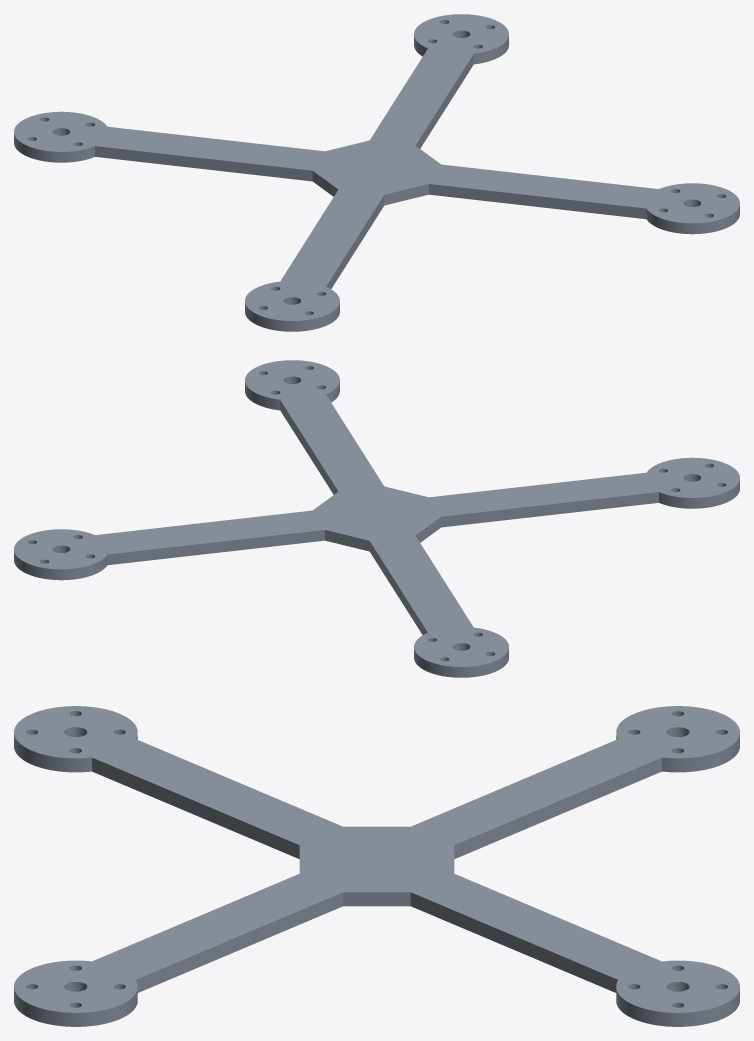
Rendered from step-2.glb.
3 views of the same model, one above another, from view 1: azimuth 30°, elevation 25°; view 2: azimuth 150°, elevation 25°; view 3: azimuth 270°, elevation 25° (orthographic). The views are drawn at different scales.
Visible parts, largest first — view 1: face_e8ffeb9f76131370be5a, face_65c66fe1e0937397a9d0, face_c3da73c9c2f5c6b37184, face_99aa3a414971a8e10236, face_3936b62e6fa0d3e30a5a, face_dd56d3a8a9a30ec413dd, face_de8c72e43f954061460f, face_6d05d407728fafc427f5, face_8e73c7c34ffd2414a018; view 2: face_e8ffeb9f76131370be5a, face_3533421d171926b4baed, face_e3d30ccce09407a87e97, face_dd56d3a8a9a30ec413dd, face_8e73c7c34ffd2414a018, face_99aa3a414971a8e10236, face_111ebc612d3cc0528e19, face_08830a98a8640858c9c0, face_3936b62e6fa0d3e30a5a; view 3: face_e8ffeb9f76131370be5a, face_08830a98a8640858c9c0, face_6d05d407728fafc427f5, face_de8c72e43f954061460f, face_111ebc612d3cc0528e19, face_8e73c7c34ffd2414a018, face_3936b62e6fa0d3e30a5a, face_dd56d3a8a9a30ec413dd, face_99aa3a414971a8e10236, face_0c192ddcb180af72bbb7.
Boxes of the visible parts, left/top/right/bottom form: face_e8ffeb9f76131370be5a: left=14, top=14, right=739, bottom=320; face_65c66fe1e0937397a9d0: left=429, top=184, right=646, bottom=219; face_c3da73c9c2f5c6b37184: left=95, top=146, right=312, bottom=181; face_99aa3a414971a8e10236: left=245, top=302, right=339, bottom=331; face_3936b62e6fa0d3e30a5a: left=646, top=205, right=739, bottom=234; face_dd56d3a8a9a30ec413dd: left=14, top=134, right=94, bottom=162; face_de8c72e43f954061460f: left=415, top=54, right=473, bottom=148; face_6d05d407728fafc427f5: left=326, top=195, right=384, bottom=288; face_8e73c7c34ffd2414a018: left=414, top=36, right=508, bottom=64; face_e8ffeb9f76131370be5a: left=14, top=360, right=739, bottom=666; face_3533421d171926b4baed: left=107, top=530, right=324, bottom=565; face_e3d30ccce09407a87e97: left=441, top=492, right=658, bottom=527; face_dd56d3a8a9a30ec413dd: left=414, top=648, right=508, bottom=677; face_8e73c7c34ffd2414a018: left=14, top=551, right=107, bottom=580; face_99aa3a414971a8e10236: left=659, top=480, right=739, bottom=508; face_111ebc612d3cc0528e19: left=280, top=400, right=338, bottom=494; face_08830a98a8640858c9c0: left=369, top=541, right=427, bottom=634; face_3936b62e6fa0d3e30a5a: left=245, top=382, right=339, bottom=410; face_e8ffeb9f76131370be5a: left=14, top=706, right=739, bottom=1012; face_08830a98a8640858c9c0: left=454, top=757, right=661, bottom=858; face_6d05d407728fafc427f5: left=92, top=757, right=299, bottom=858; face_de8c72e43f954061460f: left=410, top=892, right=617, bottom=992; face_111ebc612d3cc0528e19: left=136, top=892, right=343, bottom=992; face_8e73c7c34ffd2414a018: left=616, top=989, right=739, bottom=1026; face_3936b62e6fa0d3e30a5a: left=14, top=989, right=137, bottom=1026; face_dd56d3a8a9a30ec413dd: left=616, top=734, right=739, bottom=772; face_99aa3a414971a8e10236: left=14, top=734, right=137, bottom=772; face_0c192ddcb180af72bbb7: left=343, top=892, right=410, bottom=906.
Bounding box in the file's own units: 0.1875 × 0.004 × 0.1875.
